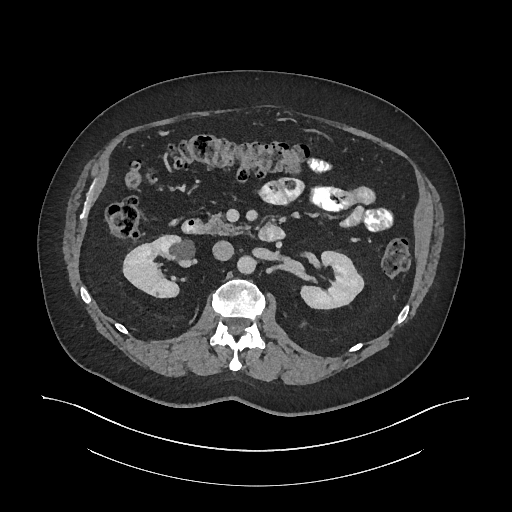Lesion: (163, 238, 200, 266)
